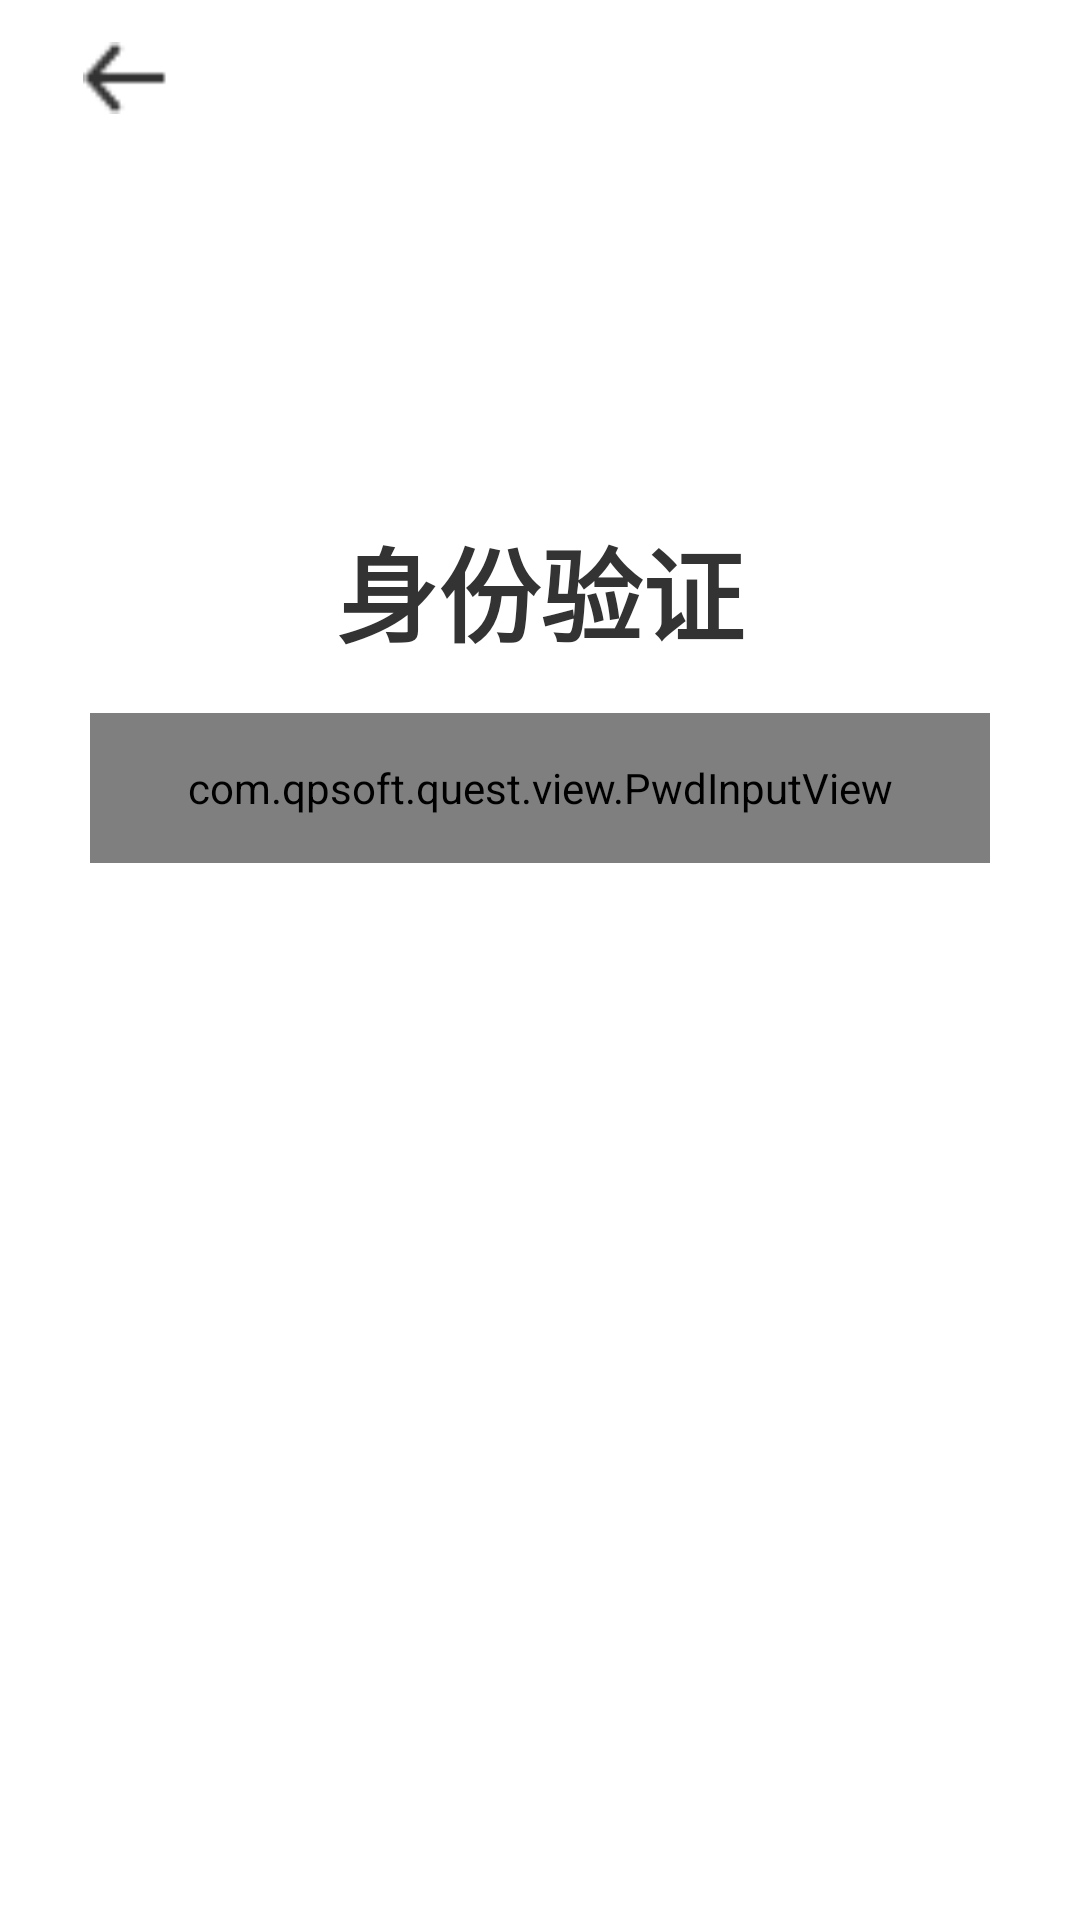

Named icons in this screenshot (1080 x 1920) and their bounding boxes, bbox=[x1, y1, x2, y2]:
back: bbox=[83, 42, 166, 114]
